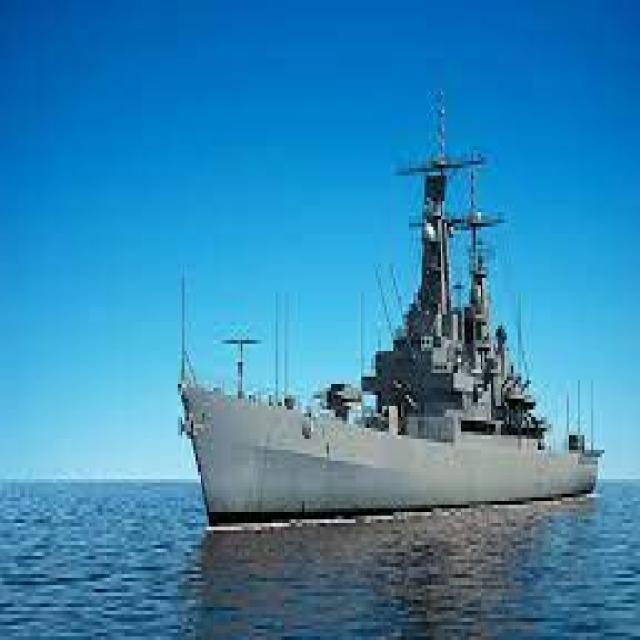navalvessels: (170, 120, 606, 534)
